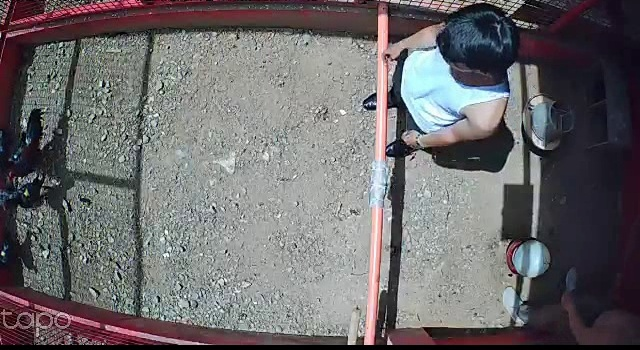Chicken: (0, 169, 51, 216)
Rooster: (4, 107, 51, 182)
Saddle_Color_Yellow: (24, 189, 29, 197)
